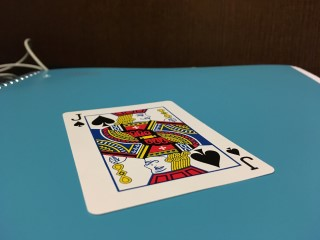JackOfSpades: (62, 100, 275, 216)
